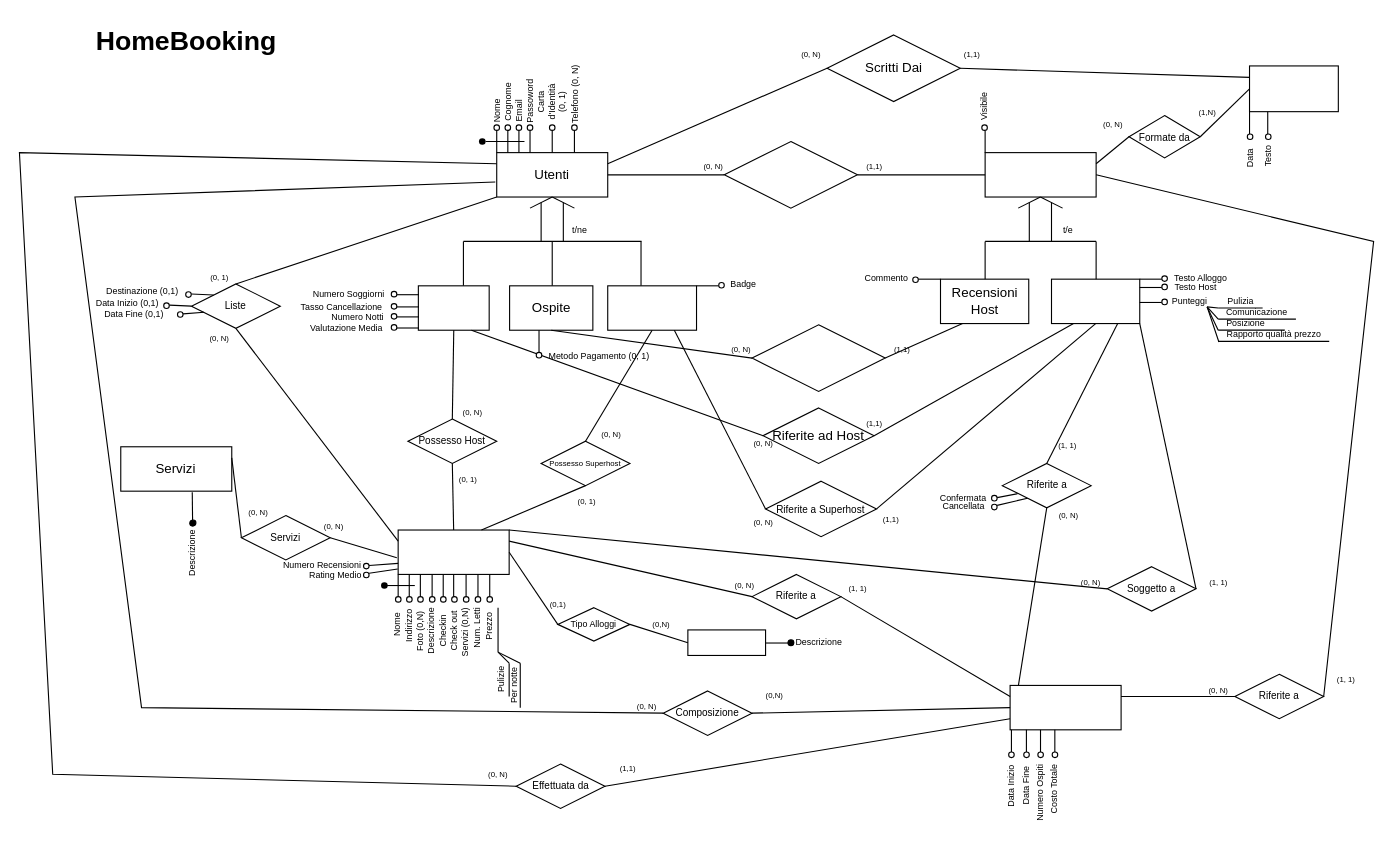
The diagram is 1394 pixels wide and 846 high, and some of its shapes have lost their labels. Here are the shapes that lost their labels. From the top down, the box of each, then its label:
(1248, 65, 1338, 112): Messaggi
(723, 140, 857, 208): Eseguite Da
(984, 152, 1096, 197): Recensioni
(417, 285, 489, 330): Host
(607, 285, 697, 330): Superhost
(1050, 278, 1140, 324): Recensioni Ospiti
(751, 324, 885, 391): Riferite Ospiti
(397, 529, 509, 574): Alloggi
(687, 629, 766, 655): Tipologia Alloggi
(1009, 684, 1121, 730): Prenotazioni
